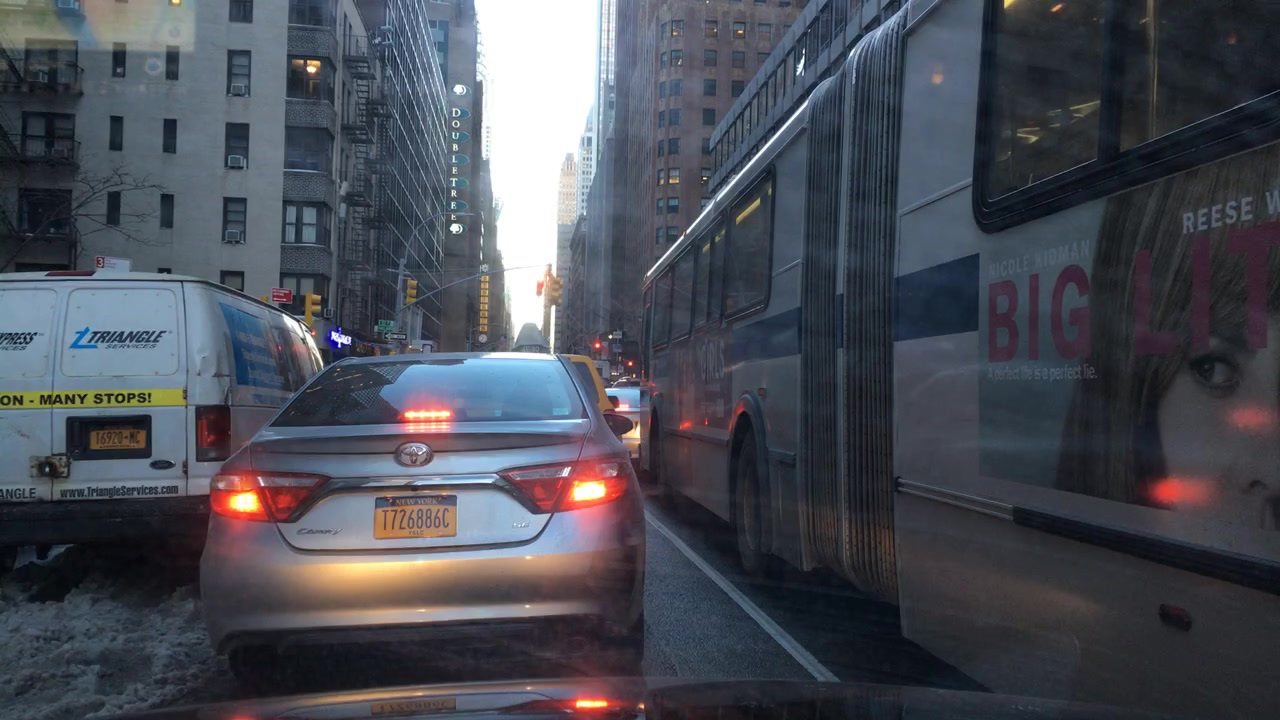licence: (371, 494, 461, 544)
